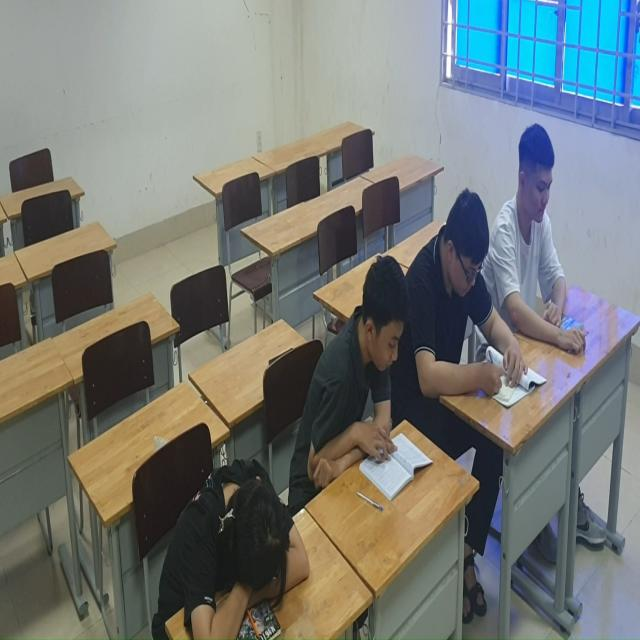read: (292, 245, 425, 513), (417, 184, 529, 431), (499, 123, 601, 365)
sleep: (147, 448, 314, 640)
